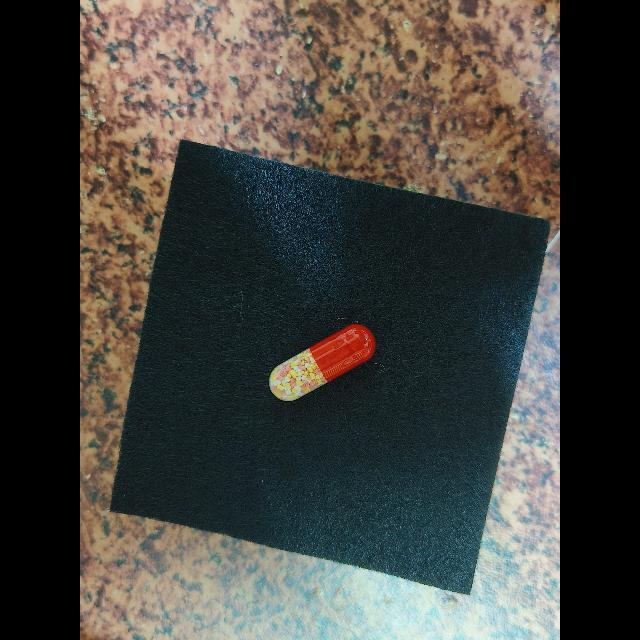Intact Capsule: (269, 324, 376, 401)
